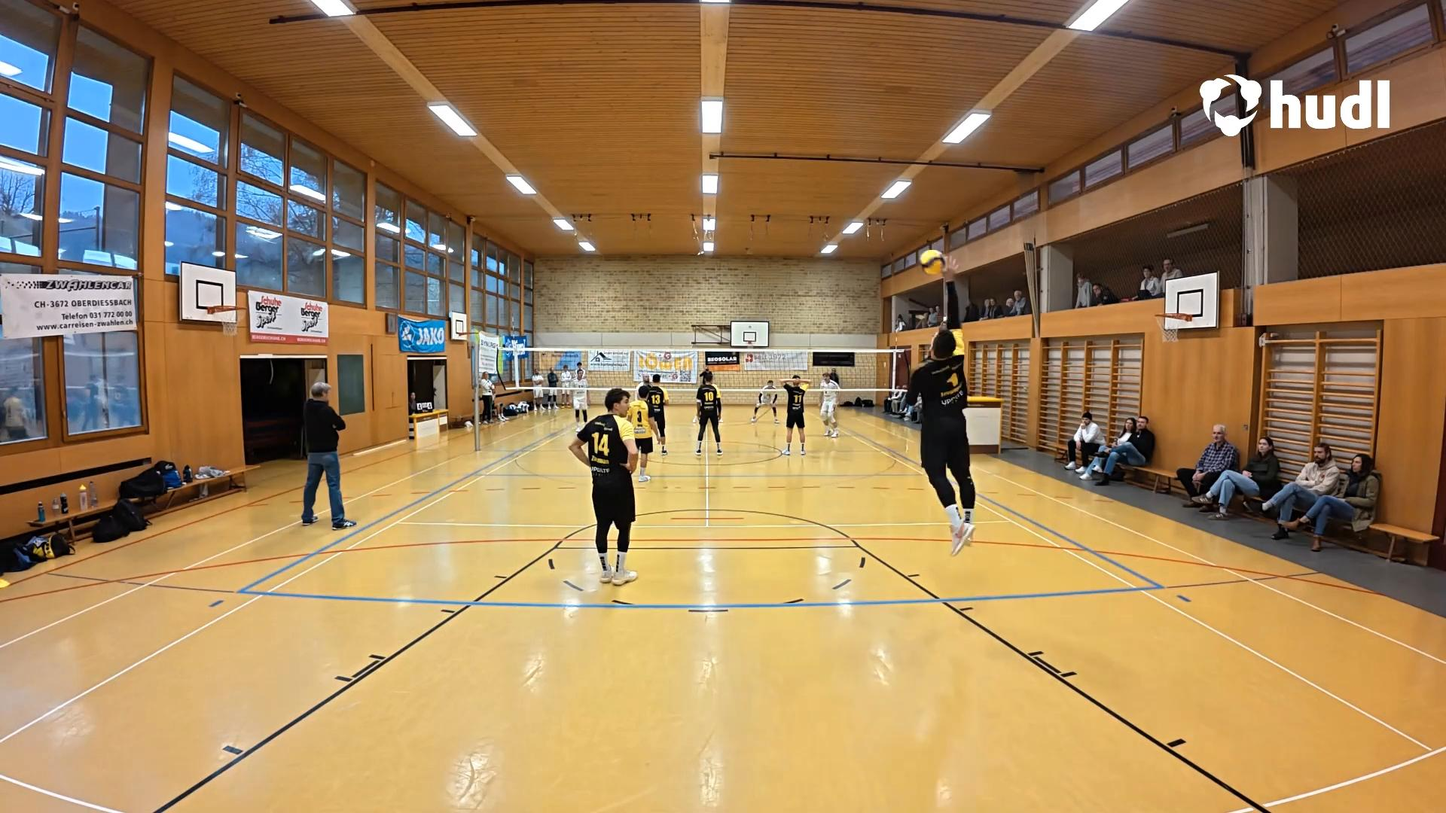battuta: (890, 247, 987, 554)
